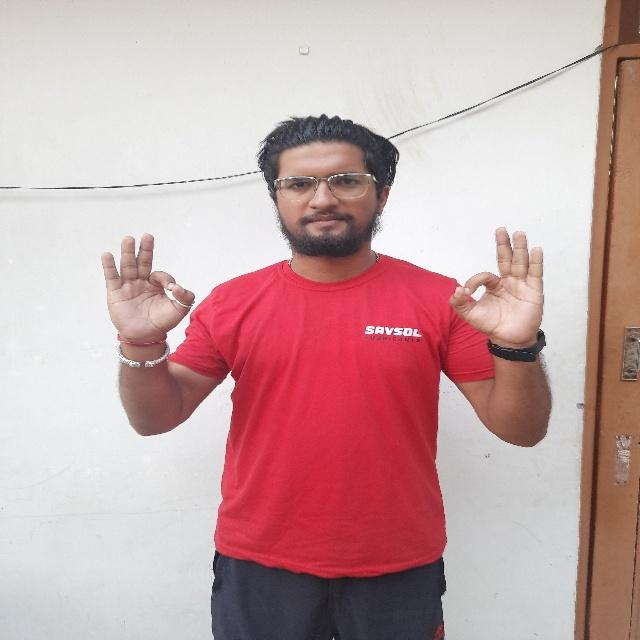Okay: (444, 222, 554, 364), (89, 222, 200, 360)
